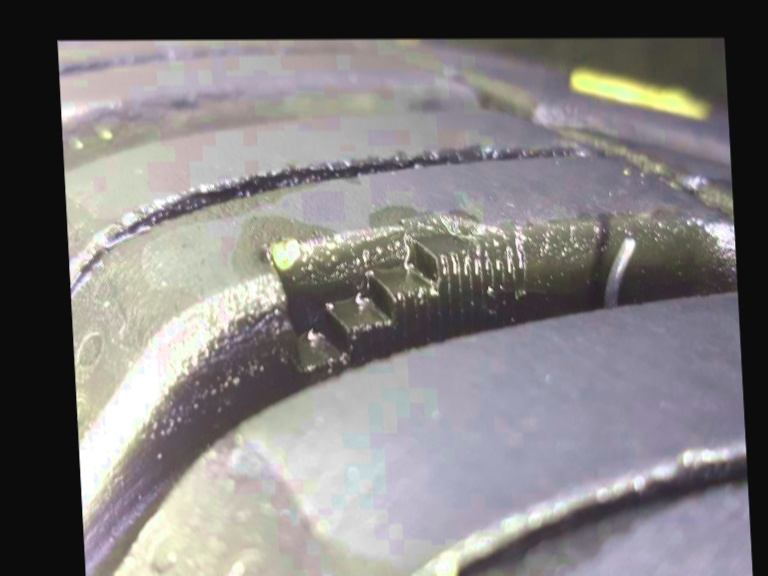temoin:80: (251, 204, 539, 392)
